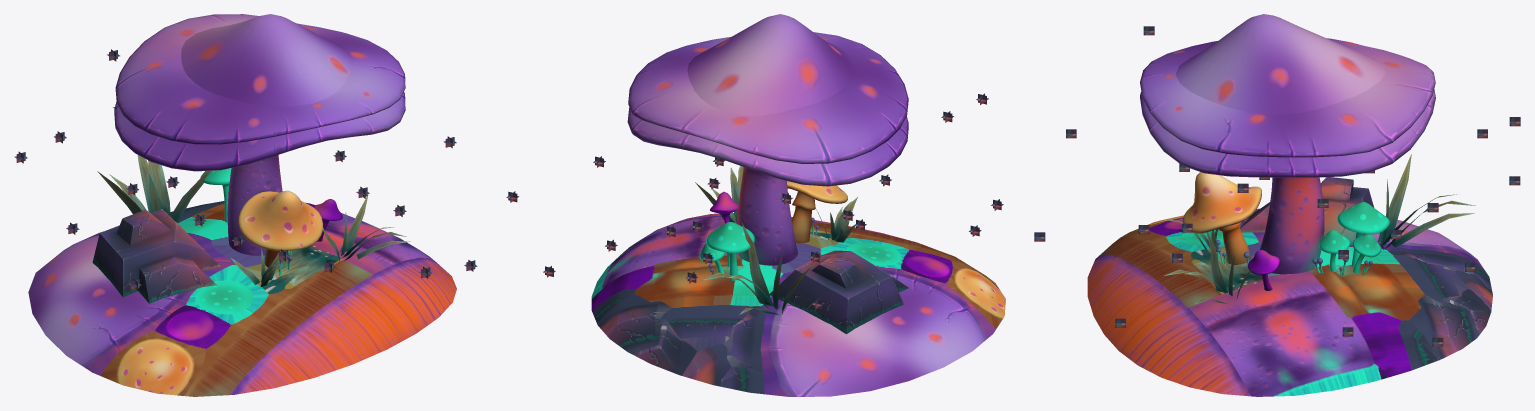
File: Mushroom.fbx
3 views of the same model, side by side, from view 1: azimuth 30°, elevation 25°; view 2: azimuth 150°, elevation 25°; view 3: azimuth 270°, elevation 25° (orthographic). The views are drawn at different scales.
Visible parts, largest first — view 1: Plane, Circle, Circle.003, Cube.001, Circle.001, Plane.002, Plane.004, Cube, Plane.003, Plane.001, Circle.002, Circle.005; view 2: Plane, Circle, Circle.003, Cube.001, Plane.004, Circle.001, Plane.002, Circle.002, Cube, Plane.001, Plane.003, Circle.005; view 3: Plane, Circle, Circle.003, Circle.001, Plane.004, Plane.002, Cube.001, Circle.002, Plane.003, Circle.005, Cube, Circle.004 (+1 smaller).
Boxes of the visible parts, bbox=[...] form: Plane: bbox=[28, 201, 456, 396]; Circle: bbox=[114, 14, 405, 255]; Circle.003: bbox=[115, 14, 405, 144]; Cube.001: bbox=[92, 209, 220, 303]; Circle.001: bbox=[238, 190, 322, 269]; Plane.002: bbox=[97, 155, 210, 223]; Plane.004: bbox=[14, 49, 477, 290]; Cube: bbox=[116, 209, 172, 245]; Plane.003: bbox=[323, 194, 410, 262]; Plane.001: bbox=[230, 248, 292, 286]; Circle.002: bbox=[200, 168, 231, 222]; Circle.005: bbox=[313, 199, 342, 241]; Plane: bbox=[591, 213, 1005, 396]; Circle: bbox=[627, 14, 908, 265]; Circle.003: bbox=[628, 32, 908, 163]; Cube.001: bbox=[769, 250, 908, 334]; Plane.004: bbox=[506, 93, 1003, 309]; Circle.001: bbox=[787, 181, 847, 243]; Plane.002: bbox=[701, 222, 809, 314]; Circle.002: bbox=[706, 222, 755, 280]; Cube: bbox=[812, 254, 865, 288]; Plane.001: bbox=[816, 197, 857, 242]; Plane.003: bbox=[695, 165, 743, 223]; Circle.005: bbox=[710, 191, 738, 223]; Plane: bbox=[1087, 208, 1492, 396]; Circle: bbox=[1140, 14, 1435, 274]; Circle.003: bbox=[1140, 38, 1435, 157]; Circle.001: bbox=[1182, 172, 1261, 264]; Plane.004: bbox=[1034, 26, 1520, 346]; Plane.002: bbox=[1361, 154, 1475, 249]; Cube.001: bbox=[1240, 187, 1374, 245]; Circle.002: bbox=[1337, 202, 1390, 266]; Plane.003: bbox=[1163, 232, 1252, 304]; Circle.005: bbox=[1248, 250, 1279, 290]; Cube: bbox=[1320, 177, 1353, 200]; Circle.004: bbox=[1319, 230, 1350, 271].
Size of the model in its own units: 583 by 417 by 599.
